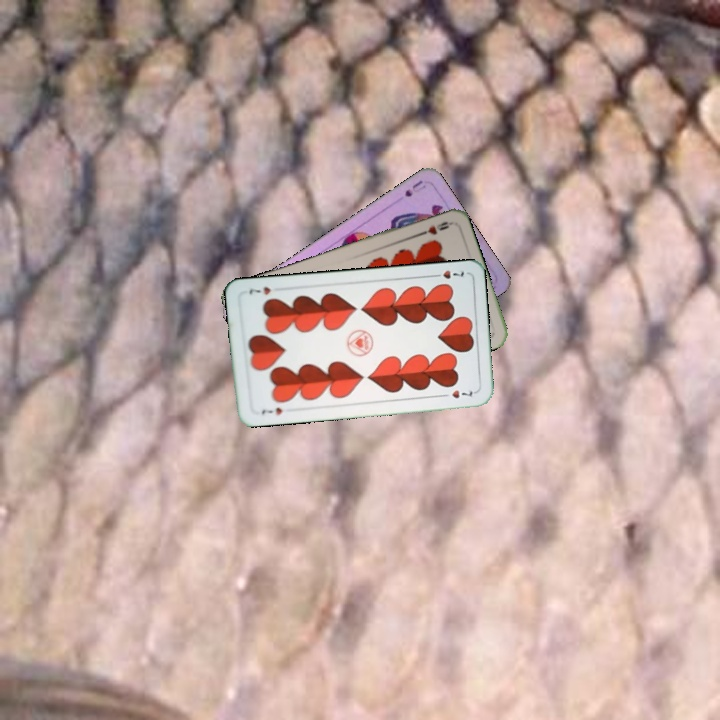H7: (428, 266, 466, 281), (258, 403, 285, 417)
H9: (414, 217, 454, 239)
SU: (401, 176, 428, 200)
